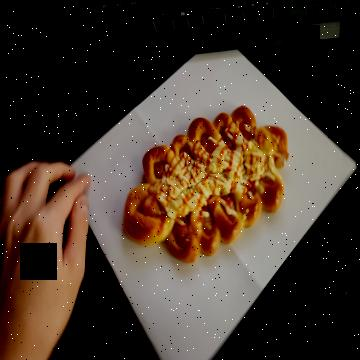pizza_bread: (123, 107, 287, 259)
